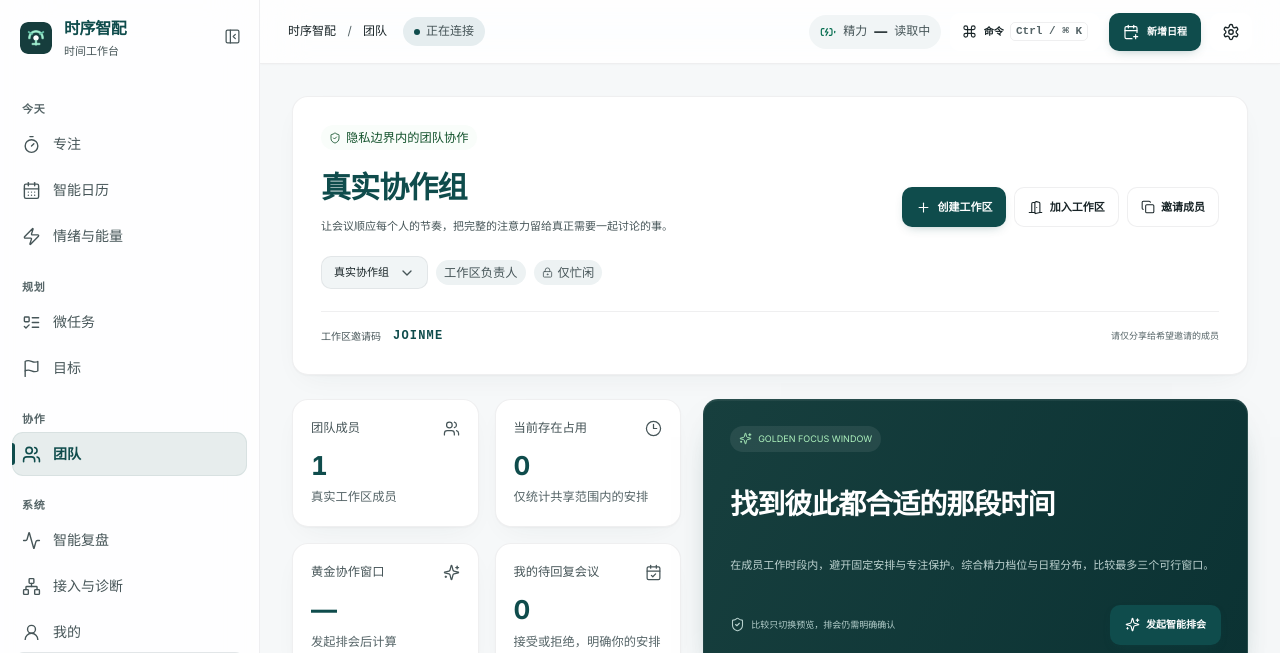
Test: opens the existing invitation capability in a drawer using the actual workspace code
Click the button "邀请成员". click: (1173, 207)
box: [1127, 187, 1219, 227]
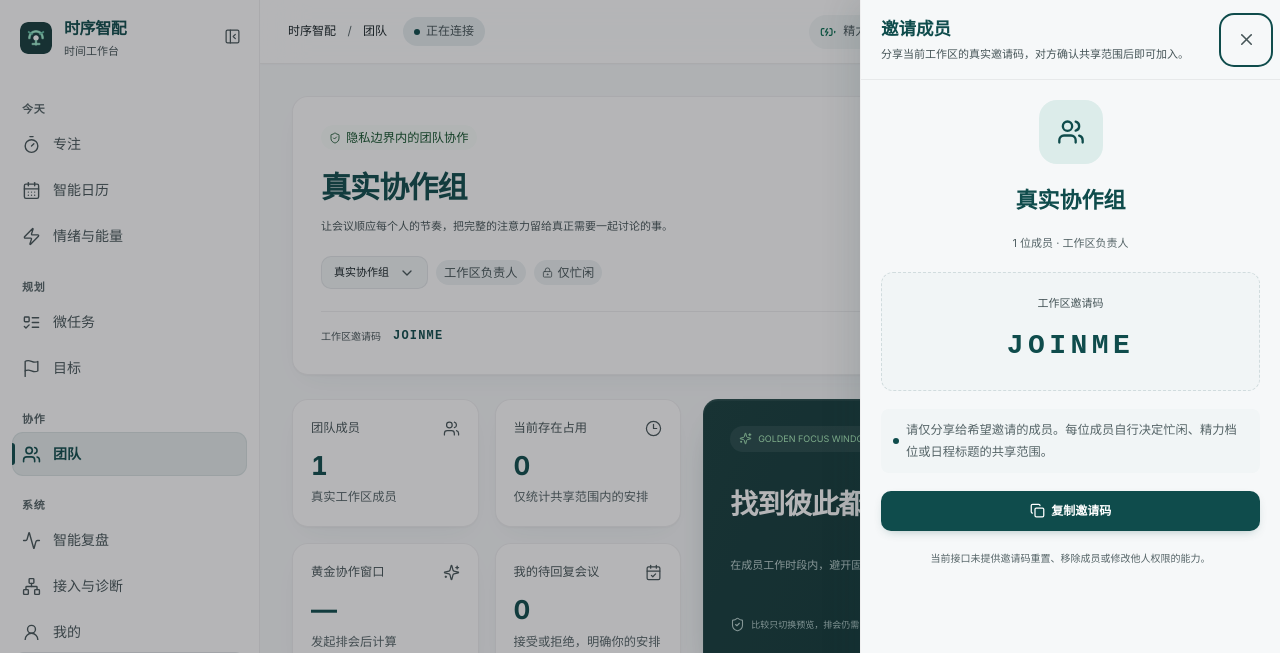
Expected: the text "JOINME" is shown, [1007, 330, 1134, 361]
Expected: the button "复制邀请码" is shown, [881, 491, 1260, 531]
